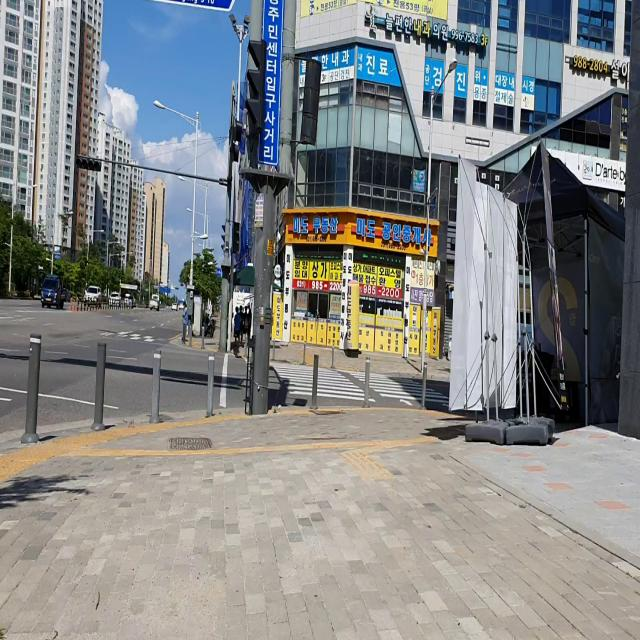횡단보도: (269, 359, 450, 406), (99, 326, 167, 346)
